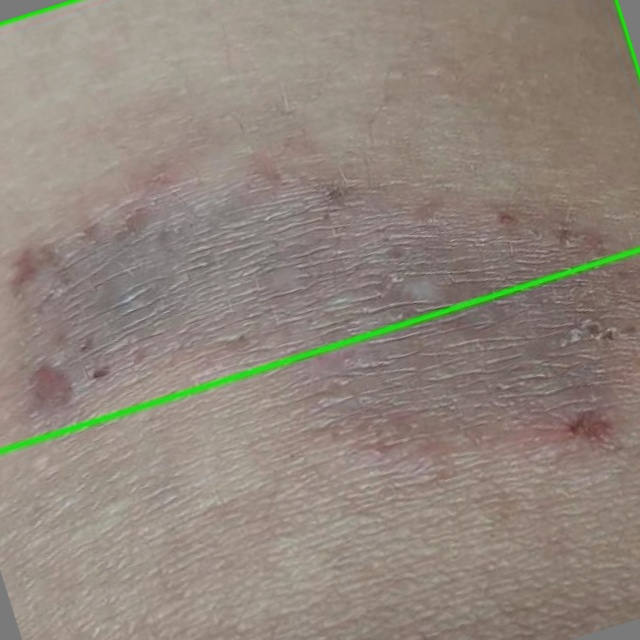Tinea Corporis: (0, 0, 639, 451)
